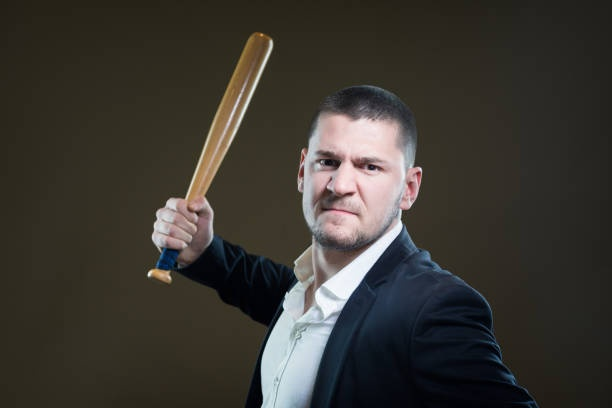bita: (148, 33, 273, 294)
